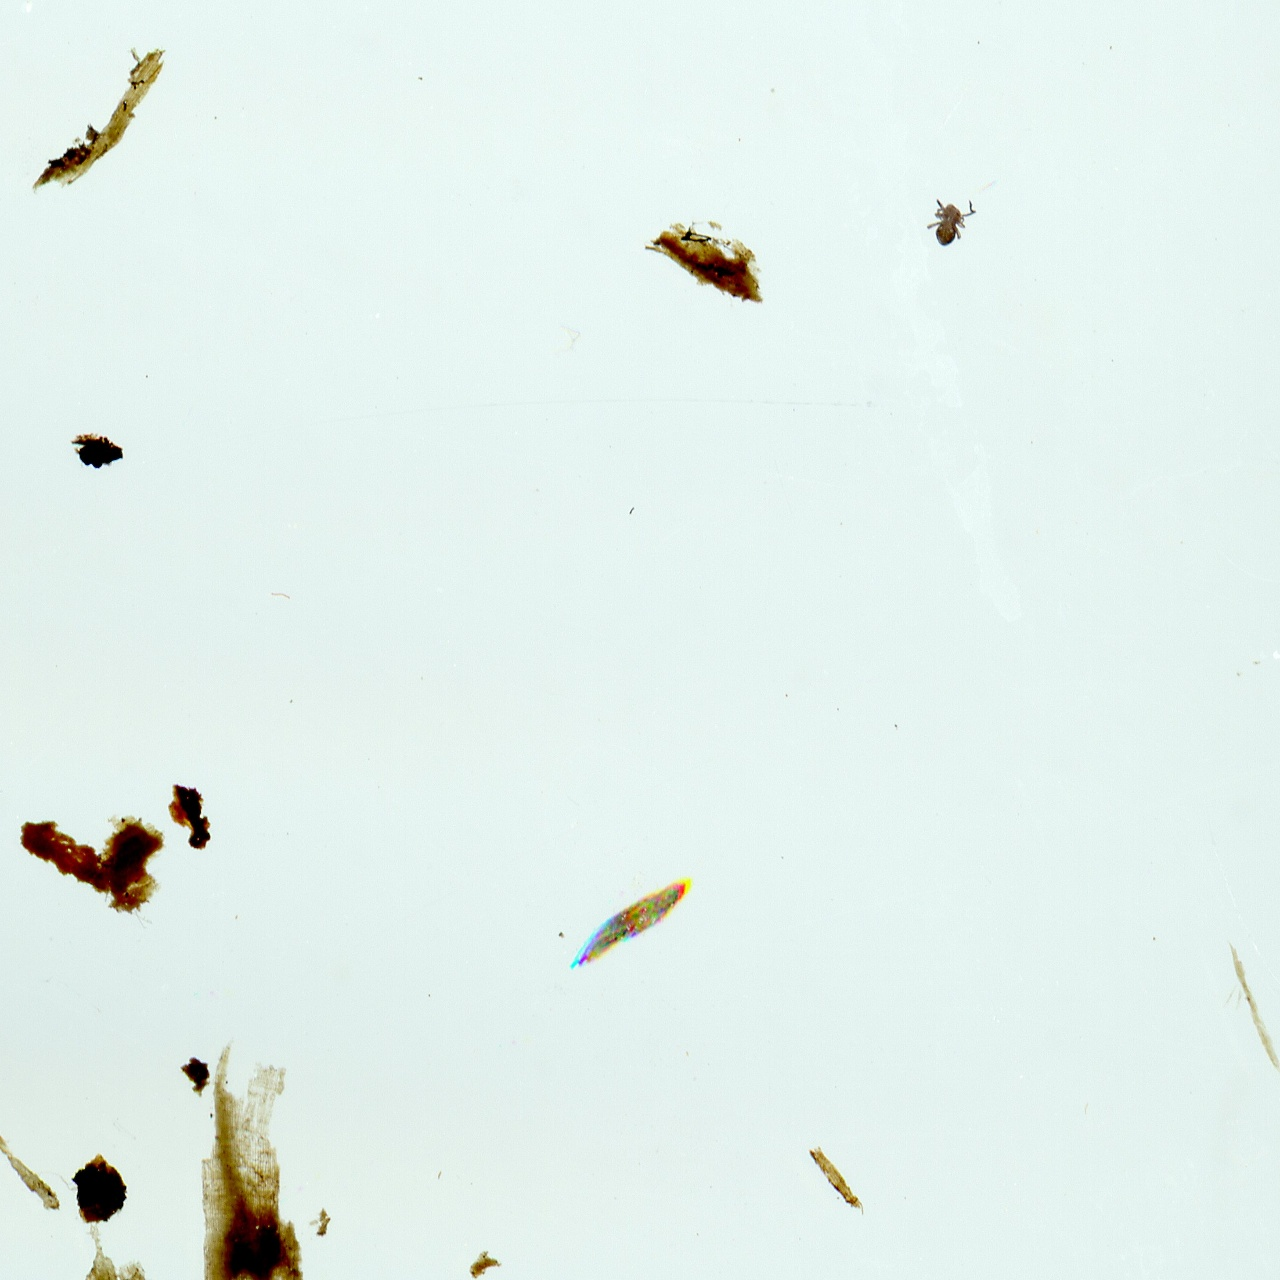arthropod: (922, 196, 979, 250)
